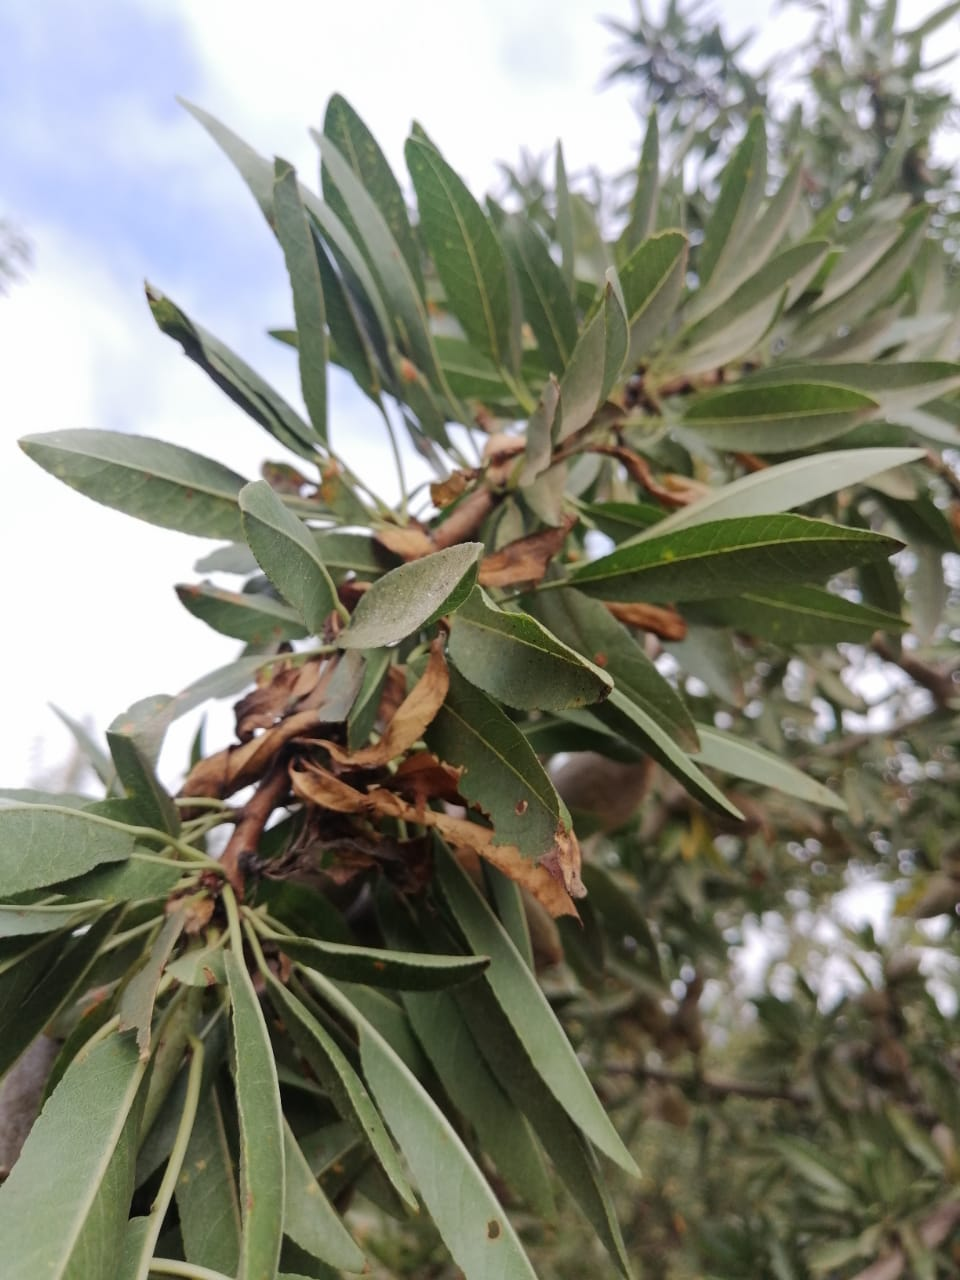scolytes: (165, 384, 703, 948)
